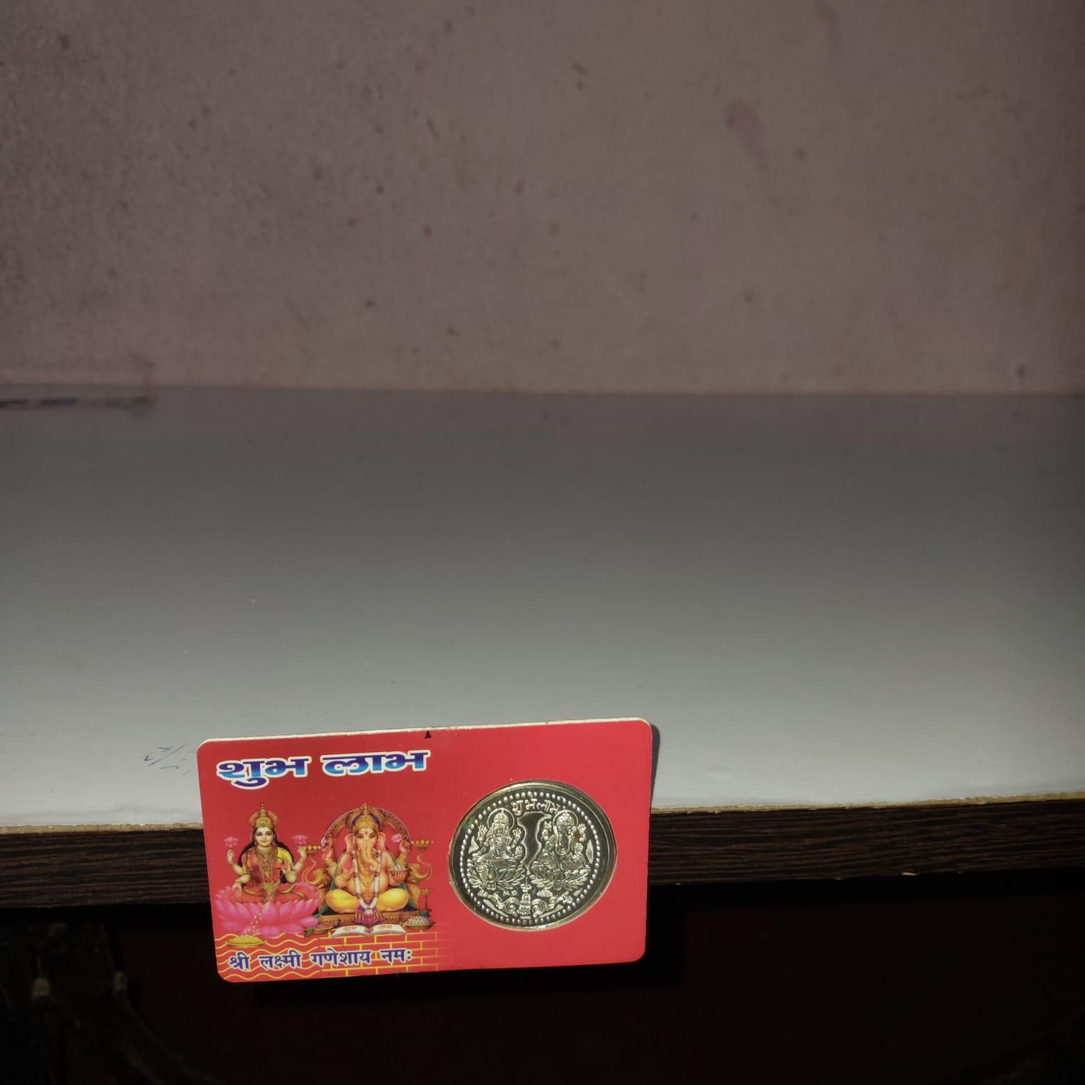blessing_card: (200, 717, 660, 983)
